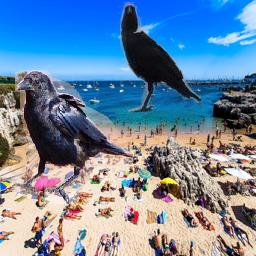Crow: (13, 70, 133, 204), (119, 2, 202, 112)
